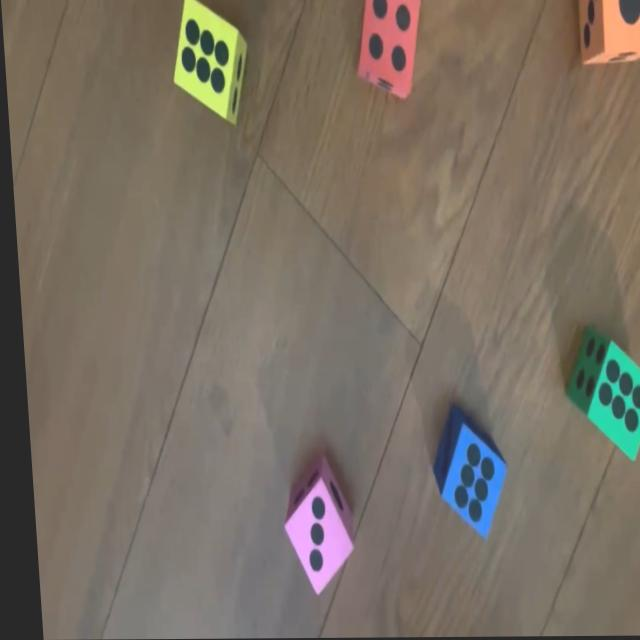cube: (557, 329, 640, 465), (423, 404, 504, 540), (351, 0, 426, 97)
